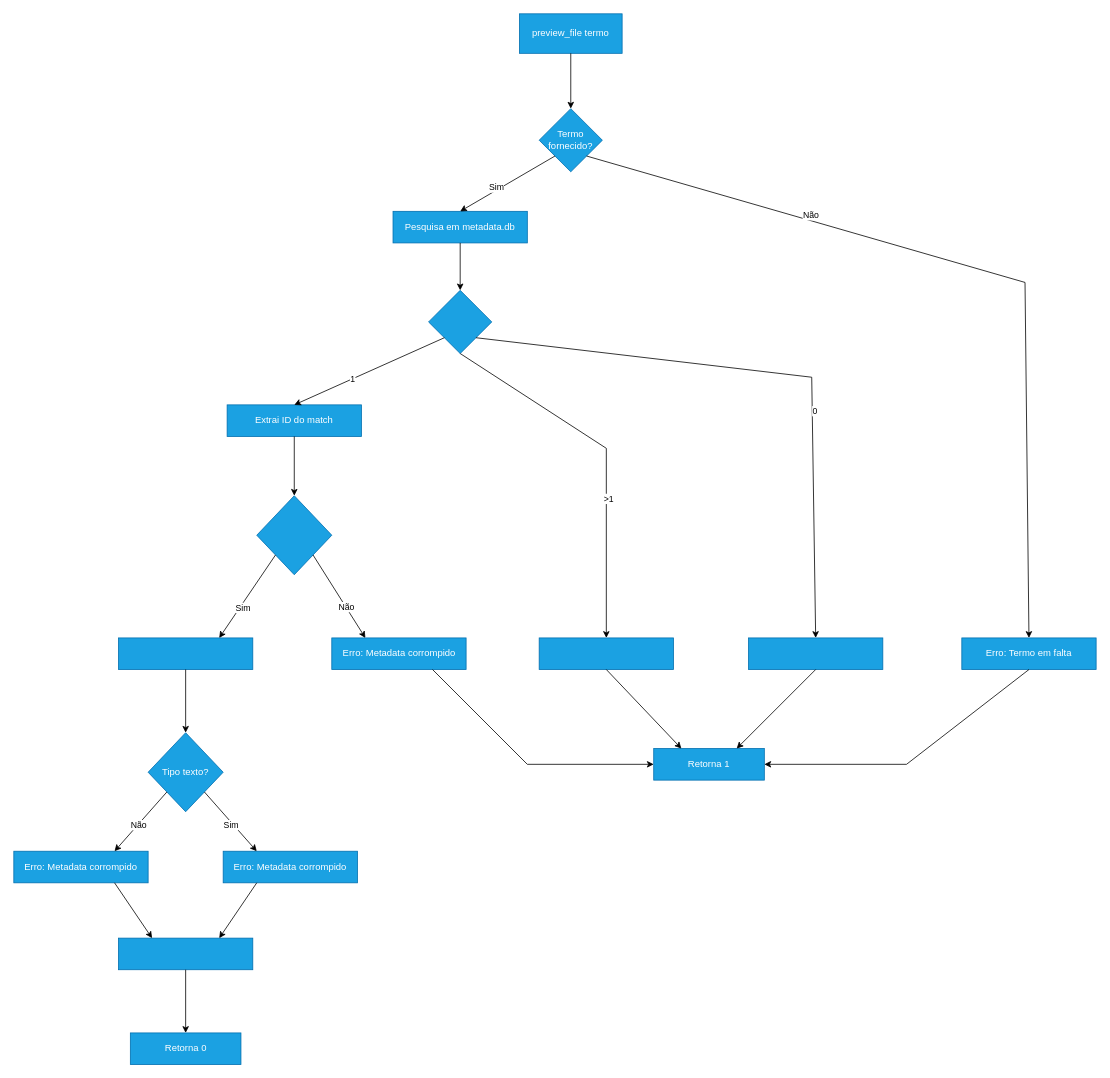
The diagram is 1110 pixels wide and 1078 high, and some of its shapes have lost their labels. Here are the shapes that lost their labels. From the top down, the centre of each, then its label:
At point 460,322: "Número de matches?".
At point 294,535: "Arquivo existe em files".
At point 185,653: "Detecta tipo MIME".
At point 605,653: "Erro: Múltiplos matches".
At point 815,653: "Erro: Não encontrado".
At point 185,953: "Preview concluído".
